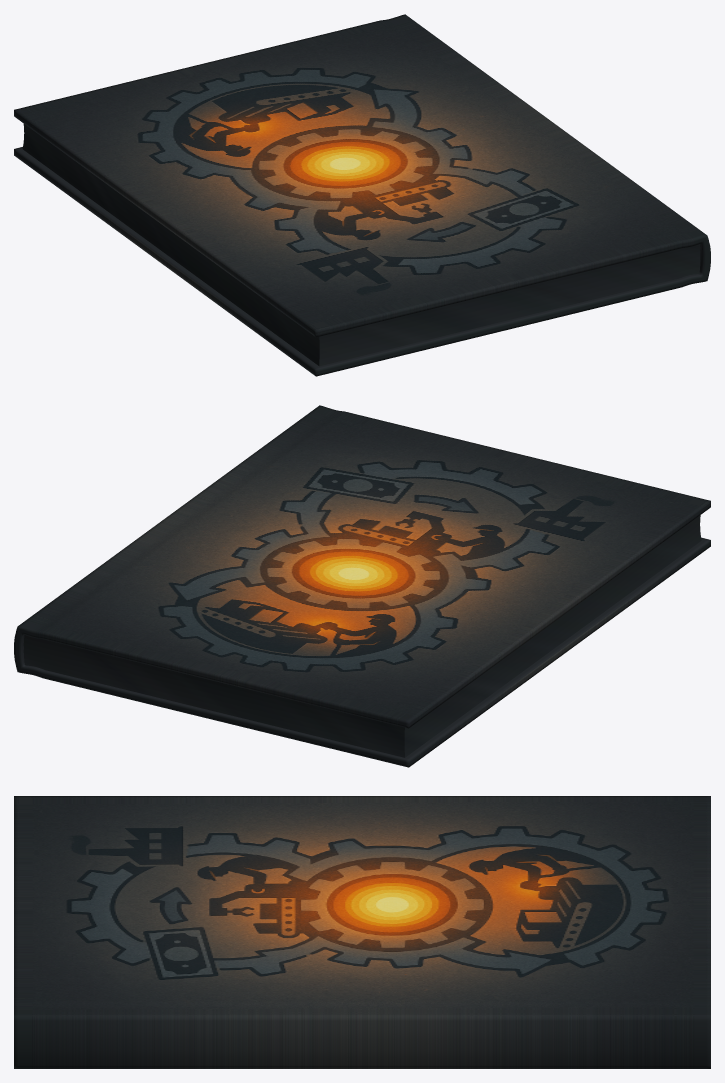
Rendered from Notebook1.glb.
3 views of the same model, one above another, from view 1: azimuth 30°, elevation 25°; view 2: azimuth 150°, elevation 25°; view 3: azimuth 270°, elevation 25° (orthographic). The views are drawn at different scales.
Visible parts, largest first — view 1: NoteBook; view 2: NoteBook; view 3: NoteBook.
Part boxes in pixels (left/top/right/bottom): NoteBook: left=14, top=14, right=710, bottom=376; NoteBook: left=14, top=405, right=710, bottom=767; NoteBook: left=14, top=796, right=710, bottom=1068.
Bounding box in the file's own units: 0.1811 × 0.02 × 0.24.
Materials: 1 (1 with a texture image).
